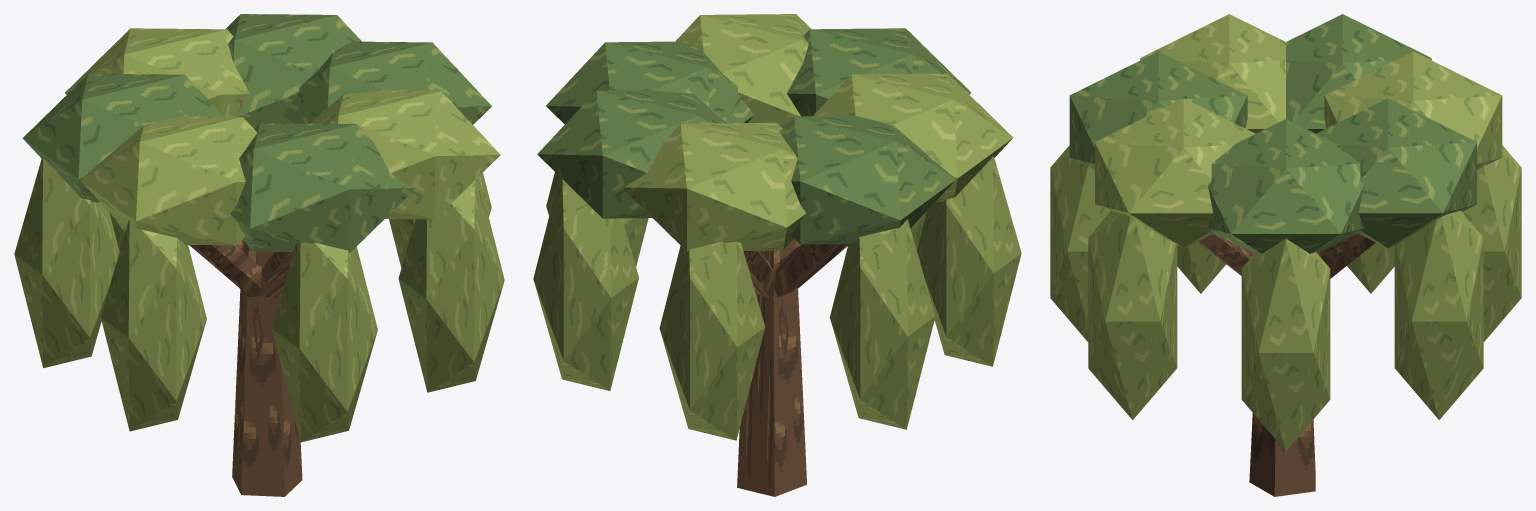
File: arvore-salgueiro-v02.gltf
3 renders of one model, left to right at view 1: azimuth 30°, elevation 25°; view 2: azimuth 150°, elevation 25°; view 3: azimuth 270°, elevation 25°, orthographic.
Visible parts, largest first — view 1: tronco-galhos-copa; view 2: tronco-galhos-copa; view 3: tronco-galhos-copa.
Part boxes in pixels (bbox=[...]): tronco-galhos-copa: bbox=[14, 14, 504, 496]; tronco-galhos-copa: bbox=[533, 14, 1021, 496]; tronco-galhos-copa: bbox=[1050, 14, 1521, 496].
Bounding box in the file's own units: 3.53 × 3.33 × 3.61.
Materials: 1 (1 with a texture image).
